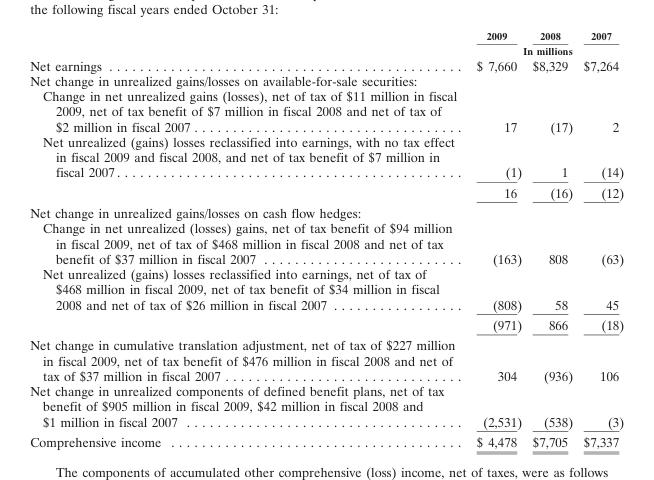table: (29, 28, 623, 449)
table column: (29, 28, 466, 449), (466, 28, 526, 449), (526, 28, 577, 449), (577, 28, 623, 449)
table column header: (29, 28, 623, 56)
table projected row header: (29, 202, 623, 220), (29, 72, 623, 87)
table row: (29, 265, 623, 314), (29, 334, 623, 383), (29, 133, 623, 181), (29, 383, 623, 431), (29, 87, 623, 133), (29, 220, 623, 265), (29, 181, 623, 202), (29, 314, 623, 334), (29, 202, 623, 220), (29, 431, 623, 449), (29, 56, 623, 72), (29, 72, 623, 87), (29, 28, 623, 42), (29, 42, 623, 56)
table spanning cell: (466, 42, 623, 56)
